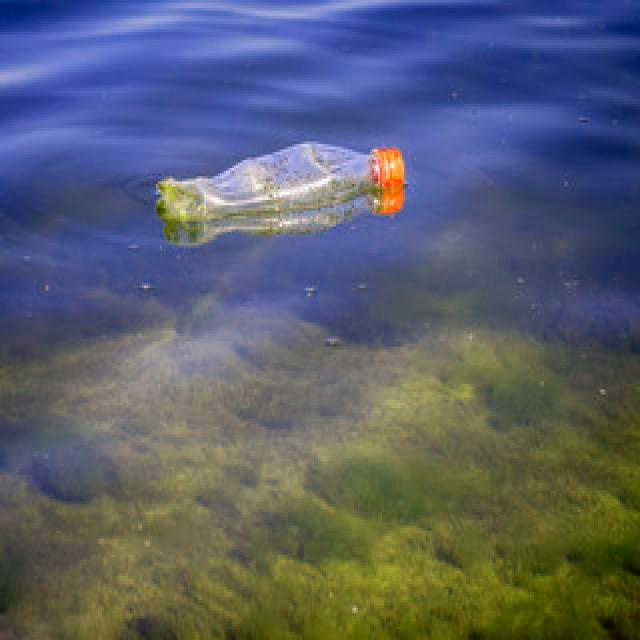Plastic: (146, 132, 407, 235)
